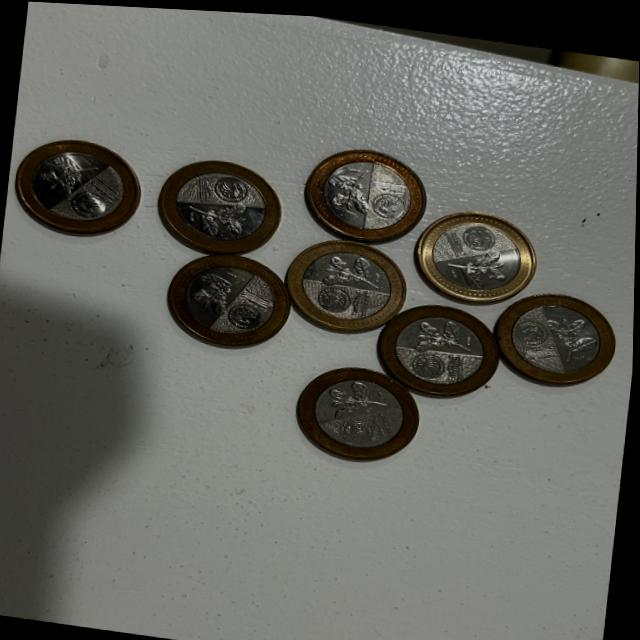20_New_Back: (34, 150, 99, 202), (542, 301, 599, 360), (324, 374, 395, 420), (444, 238, 510, 286), (184, 194, 251, 237), (186, 263, 241, 315), (413, 312, 482, 353), (319, 247, 386, 288), (322, 158, 370, 211)
